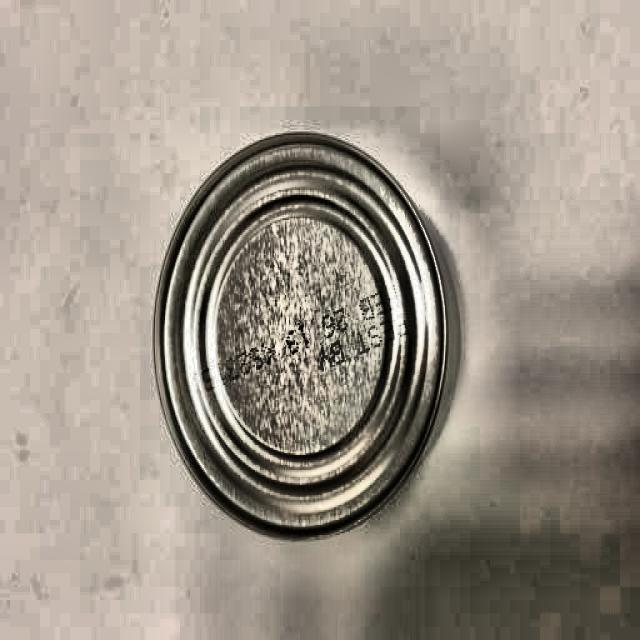metal: (150, 132, 451, 537)
